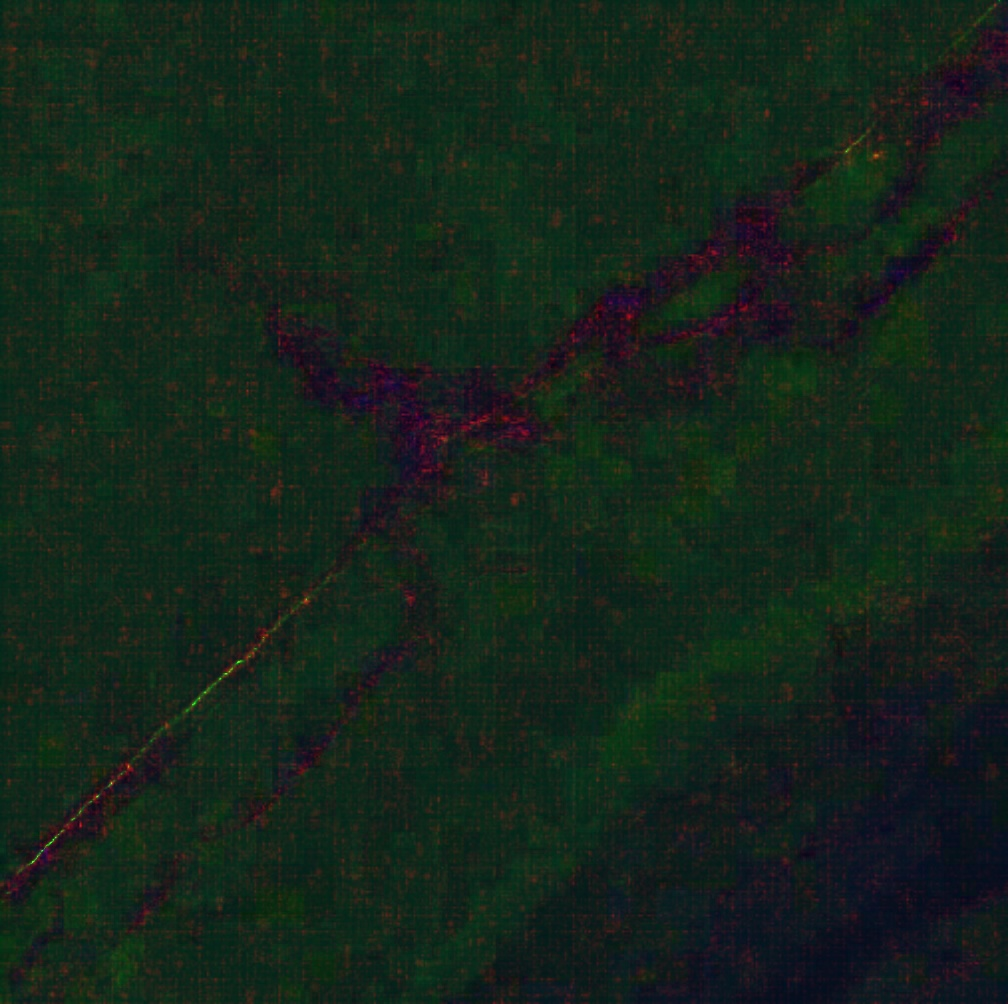rip_current: (243, 291, 518, 504)
